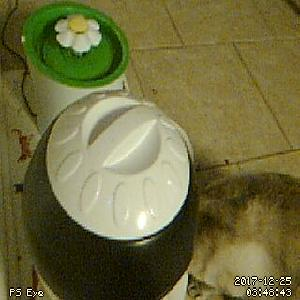cat: (186, 172, 300, 300)
fountain: (22, 3, 130, 88)
